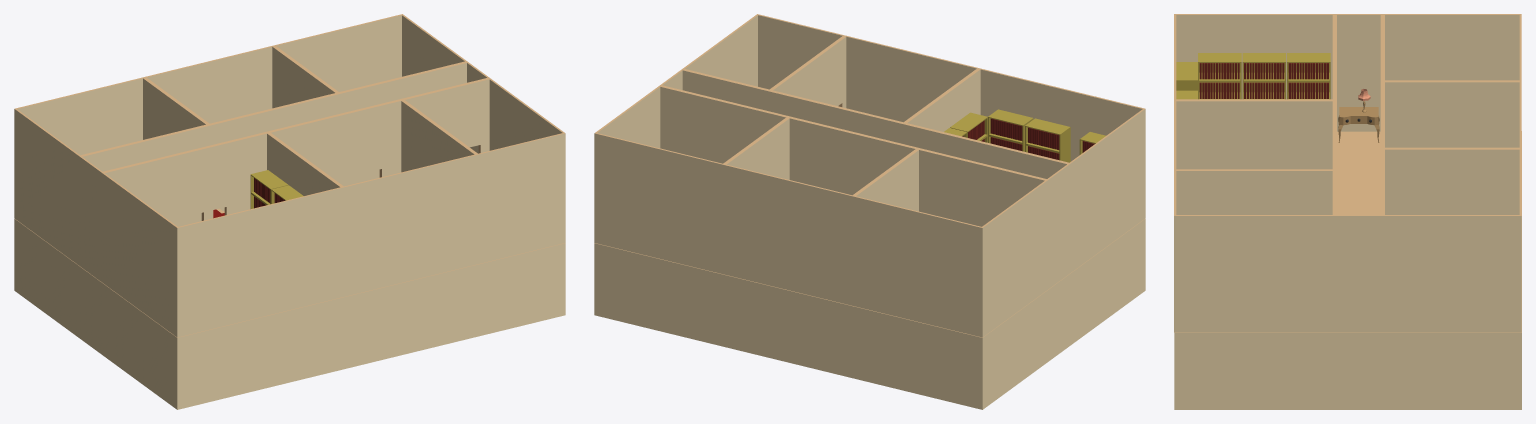
Rendered from hauntedmansion.glb.
The picture shows the model from 3 angles, left to right: view 1: azimuth 30°, elevation 25°; view 2: azimuth 150°, elevation 25°; view 3: azimuth 270°, elevation 25°; orthographic projection. The views are drawn at different scales.
Visible parts, largest first — view 1: Plane.002, Walls, Cube.007; view 2: Plane.002, Walls, Cube.012, Cube.011, Cube.009; view 3: Plane.002, Walls, Plane.003, Cube.014, Cube.016, Cube.015, Table.001, Cube.013.
Part boxes in pixels (<box>): Plane.002: <box>14,14,565,337</box>; Walls: <box>14,207,565,409</box>; Cube.007: <box>250,170,288,208</box>; Plane.002: <box>594,14,1145,337</box>; Walls: <box>594,218,1145,409</box>; Cube.012: <box>1025,118,1070,162</box>; Cube.011: <box>988,109,1033,151</box>; Cube.009: <box>950,112,987,142</box>; Plane.002: <box>1174,14,1521,332</box>; Walls: <box>1174,131,1521,409</box>; Plane.003: <box>1337,131,1380,214</box>; Cube.014: <box>1198,53,1241,99</box>; Cube.016: <box>1287,53,1330,99</box>; Cube.015: <box>1242,53,1285,99</box>; Table.001: <box>1338,107,1379,142</box>; Cube.013: <box>1176,62,1197,90</box>.
Size of the model in its own units: 22 by 9.85 by 16.
